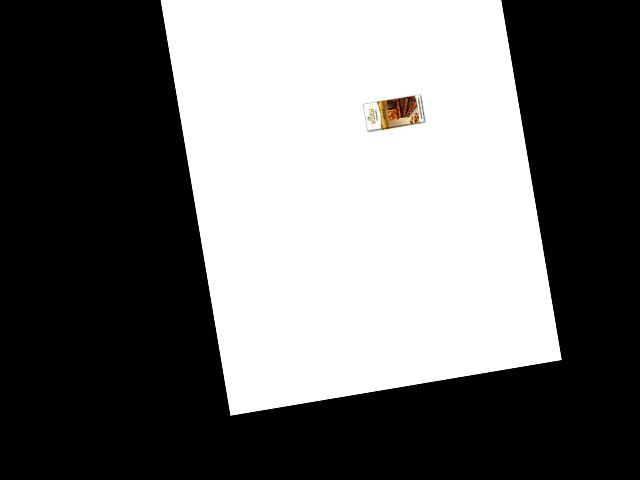chocolate: (358, 88, 429, 143)
